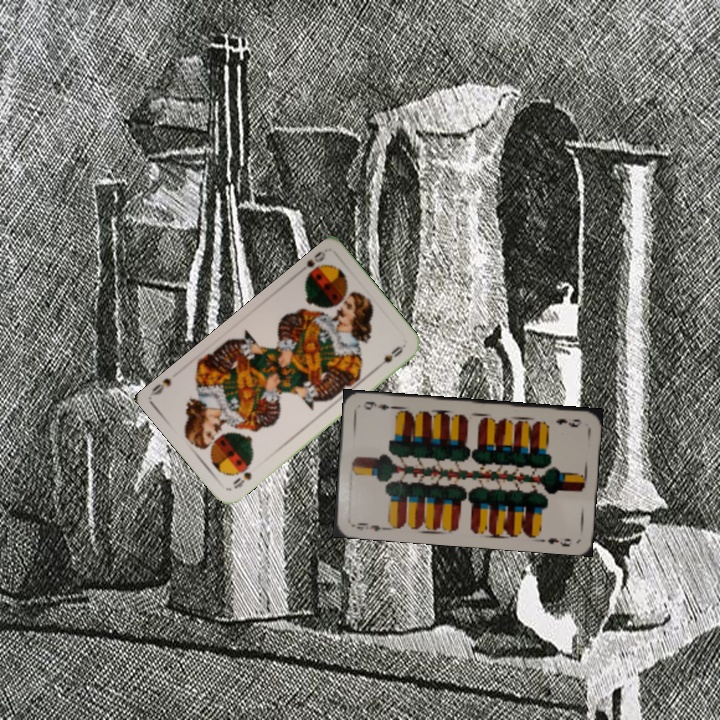E9: (348, 518, 389, 534), (552, 414, 584, 430)
SO: (301, 247, 329, 284), (229, 463, 255, 491)
